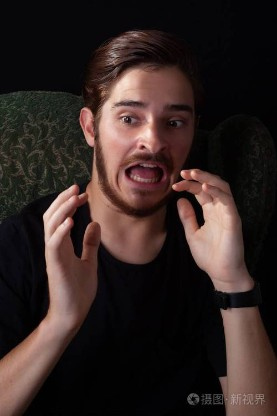张嘴: (117, 155, 172, 192)
